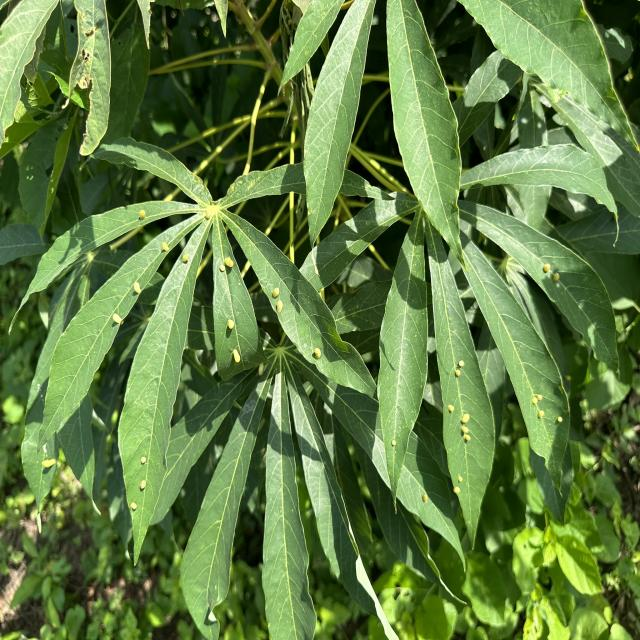Mosca: (530, 389, 567, 429), (40, 445, 77, 481), (533, 256, 562, 289), (298, 340, 325, 367), (463, 406, 478, 449), (137, 450, 151, 494), (196, 196, 217, 225), (126, 275, 150, 300), (264, 281, 281, 316), (216, 253, 237, 281), (456, 470, 473, 499), (416, 492, 437, 513), (451, 362, 476, 379), (107, 312, 131, 329), (439, 400, 460, 417), (227, 347, 246, 365), (390, 433, 406, 454), (154, 240, 173, 257), (124, 498, 139, 514), (180, 253, 194, 270), (221, 316, 233, 335), (132, 209, 143, 226)
